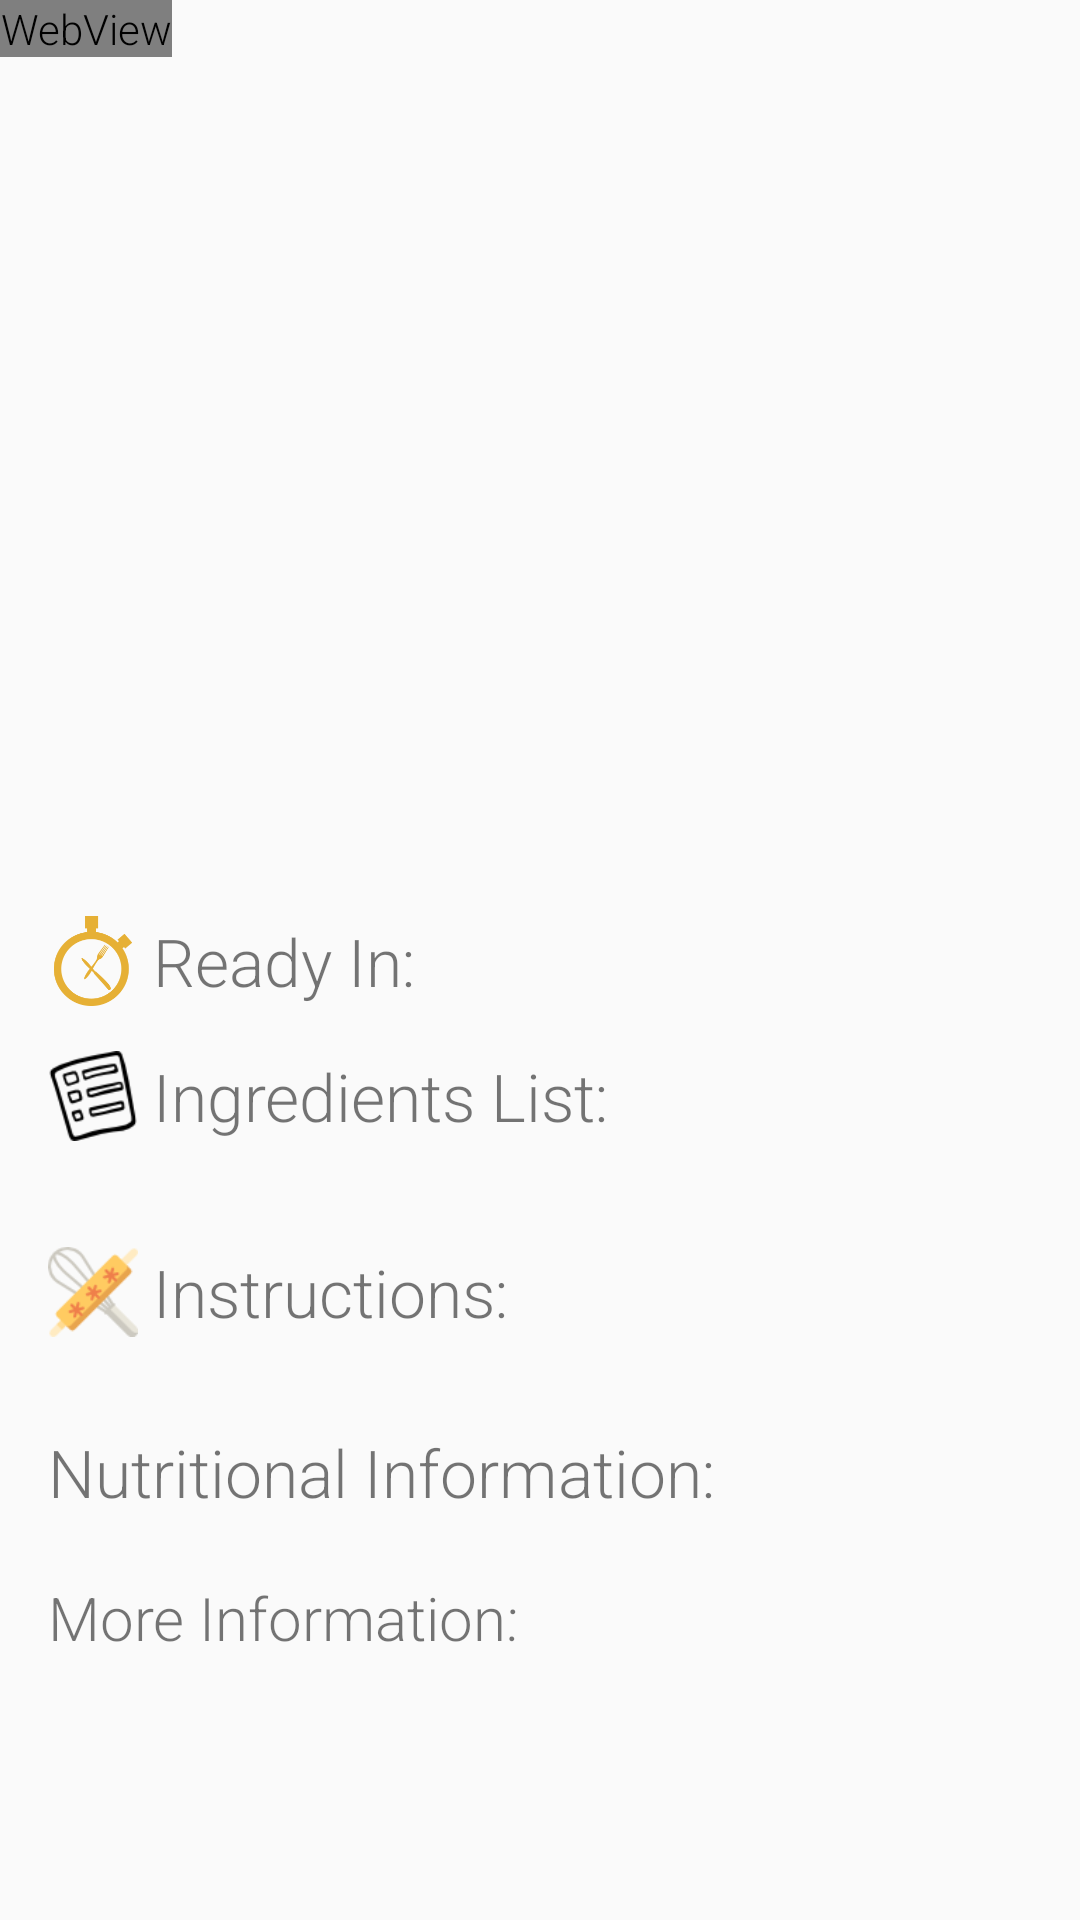

Icon bounding boxes for this 1080x1920 phone screenshot, format (x1, y1, x2, y2):
baking: (48, 1247, 138, 1337)
time: (54, 916, 132, 1006)
